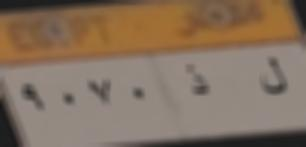0: (127, 82, 148, 104), (59, 90, 80, 111)
7: (85, 72, 113, 112)
9: (20, 82, 46, 117)
laam: (256, 54, 291, 103)
zaal: (182, 63, 210, 102)
